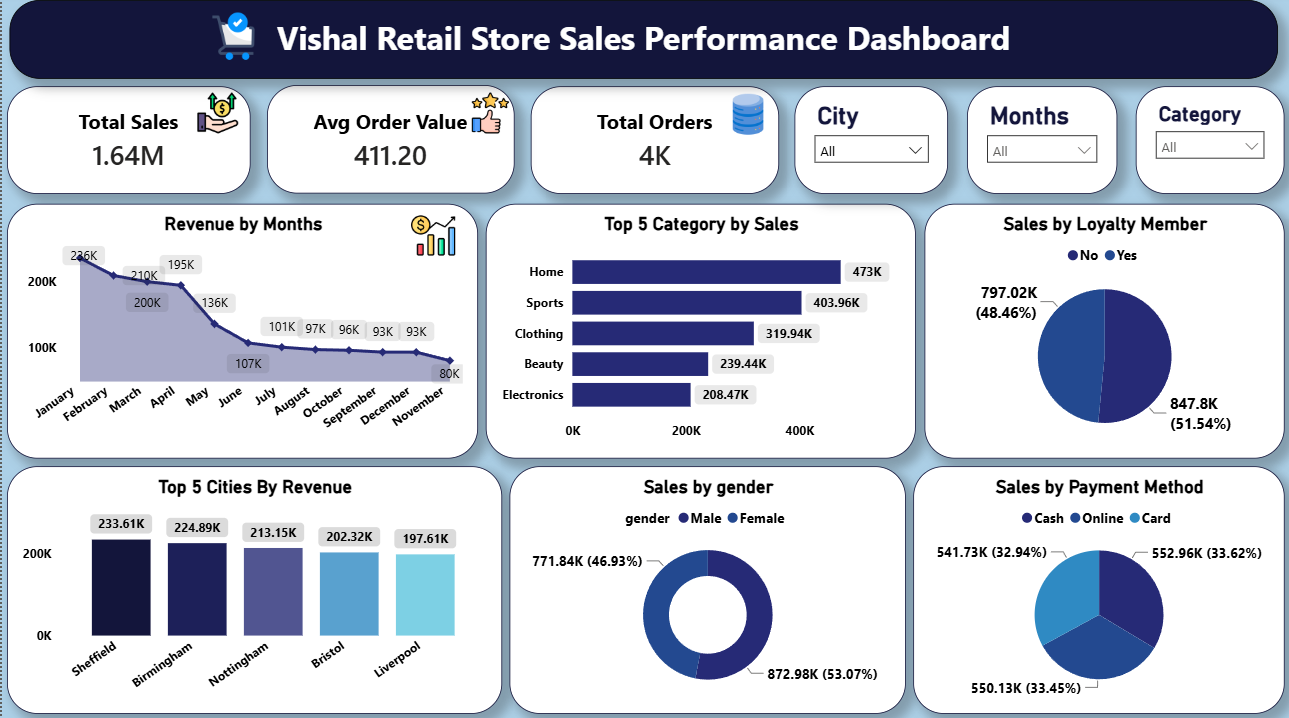

The page's visual inventory and layout, read from the dashboard file:
{"tool":"powerbi","page":{"name":"Sales Dashboard","canvas":[1280,720],"ordinal":1},"visuals":[{"type":"cardVisual","fields":{"Data":["Orders.Total Sales"]},"box":[5,90.8,242.6,107],"z":0},{"type":"cardVisual","fields":{"Data":["Orders.Total Orders"]},"box":[526.2,90.8,247.5,107],"z":1000},{"type":"cardVisual","fields":{"Data":["Orders.Avg Order Value"]},"box":[263.7,89.6,246.3,108.2],"z":2000},{"type":"textbox","box":[7.5,5,1262.6,78.4],"z":3000},{"type":"lineChart","title":"Revenue by Months","fields":{"Category":["Orders.Months"],"Y":["Orders.Total Sales"]},"box":[5,207.7,469,253.8],"z":4000},{"type":"clusteredBarChart","title":"Top 5 Category by Sales","fields":{"Y":["Orders.Total Sales"],"Category":["Products.category"]},"box":[481.4,207.7,427.9,253.8],"z":5000},{"type":"slicer","fields":{"Values":["Customers.city"]},"box":[788.7,90.8,153,107],"z":6000},{"type":"slicer","fields":{"Values":["Products.category"]},"box":[1128.3,90.8,148,107],"z":7000},{"type":"slicer","fields":{"Values":["Orders.Months"]},"box":[960.3,90.8,149.3,107],"z":8000},{"type":"image","box":[391.8,217.7,74.6,43.5],"z":9000},{"type":"lineStackedColumnComboChart","title":"Top 5 Cities By Revenue","fields":{"Y":["Sum(Orders.Sales)"],"Category":["Customers.city"]},"box":[5,469,492.6,246.3],"z":10000},{"type":"donutChart","title":"Sales by gender","fields":{"Category":["Customers.gender"],"Y":["Sum(Orders.Sales)"]},"box":[505,469,394.3,246.3],"z":11000},{"type":"pieChart","title":"Sales by Loyalty Member","fields":{"Category":["Customers.loyalty_member"],"Y":["Sum(Orders.Sales)"]},"box":[918,207.7,358.3,253.8],"z":12000},{"type":"pieChart","title":"Sales by Payment Method","fields":{"Category":["Orders.payment_method"],"Y":["Sum(Orders.Sales)"]},"box":[906.8,469,369.5,246.3],"z":13000},{"type":"image","box":[190.3,97,48.5,41.1],"z":13001},{"type":"image","box":[461.5,97,48.5,41.1],"z":13003},{"type":"image","box":[180.4,17.4,99.5,47.3],"z":13004},{"type":"image","box":[702.8,98.3,79.6,41.1],"z":13005}]}

Visuals, with their boxes in screenshot pixels (x1, y1, x2, y2), scaled from the page's 1280x720 canvas onto the 1289x718 screenshot:
cardVisual - Orders.Total Sales: l=5, t=91, r=249, b=197
cardVisual - Orders.Total Orders: l=530, t=91, r=779, b=197
cardVisual - Orders.Avg Order Value: l=266, t=89, r=514, b=197
textbox: l=8, t=5, r=1279, b=83
"Revenue by Months" lineChart: l=5, t=207, r=477, b=460
"Top 5 Category by Sales" clusteredBarChart: l=485, t=207, r=916, b=460
slicer - Customers.city: l=794, t=91, r=948, b=197
slicer - Products.category: l=1136, t=91, r=1285, b=197
slicer - Orders.Months: l=967, t=91, r=1117, b=197
image: l=395, t=217, r=470, b=260
"Top 5 Cities By Revenue" lineStackedColumnComboChart: l=5, t=468, r=501, b=713
"Sales by gender" donutChart: l=509, t=468, r=906, b=713
"Sales by Loyalty Member" pieChart: l=924, t=207, r=1285, b=460
"Sales by Payment Method" pieChart: l=913, t=468, r=1285, b=713
image: l=192, t=97, r=240, b=138
image: l=465, t=97, r=514, b=138
image: l=182, t=17, r=282, b=65
image: l=708, t=98, r=788, b=139
